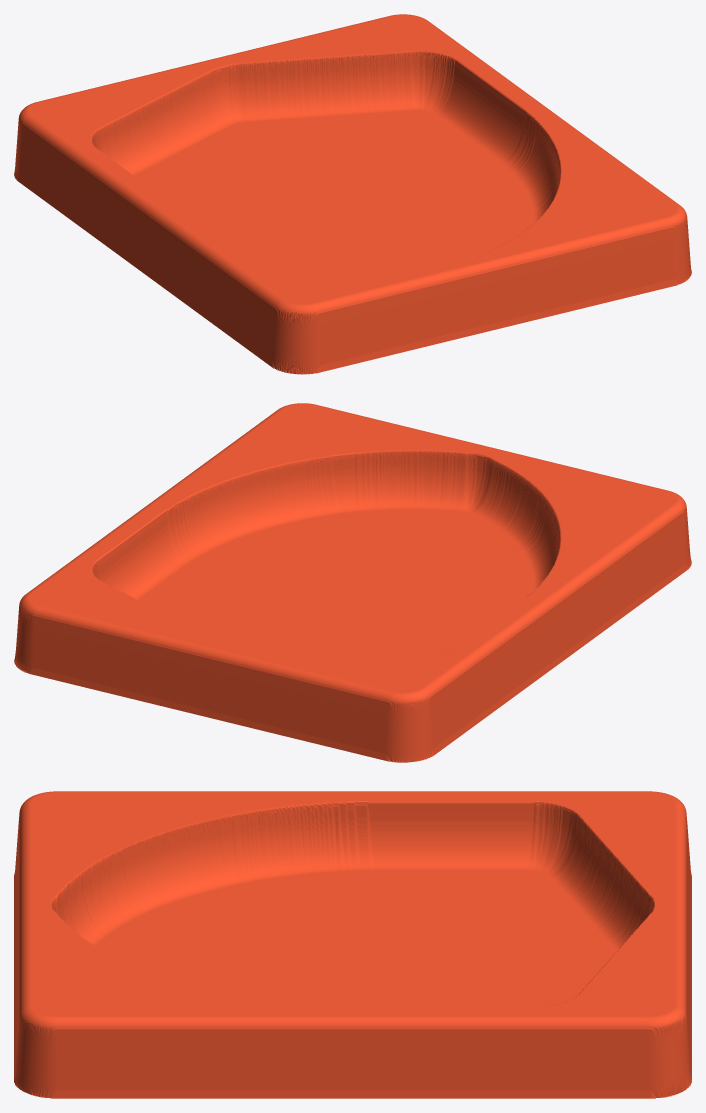
File: mold.glb
3 renders of one model, top to bottom at view 1: azimuth 30°, elevation 25°; view 2: azimuth 150°, elevation 25°; view 3: azimuth 270°, elevation 25°, orthographic. The views are drawn at different scales.
Visible parts, largest first — view 1: geometry_0; view 2: geometry_0; view 3: geometry_0.
Boxes of the visible parts, x1,y1,x2,y2 form: geometry_0: (14, 14, 691, 374); geometry_0: (14, 403, 691, 762); geometry_0: (14, 791, 691, 1098).
Bounding box in the file's own units: 0.1194 × 0.0175 × 0.1435.
